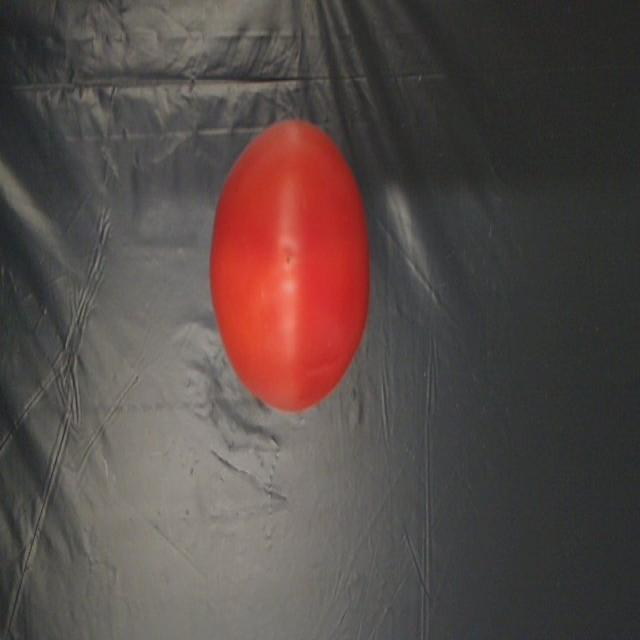kirmizi: (208, 114, 378, 421)
